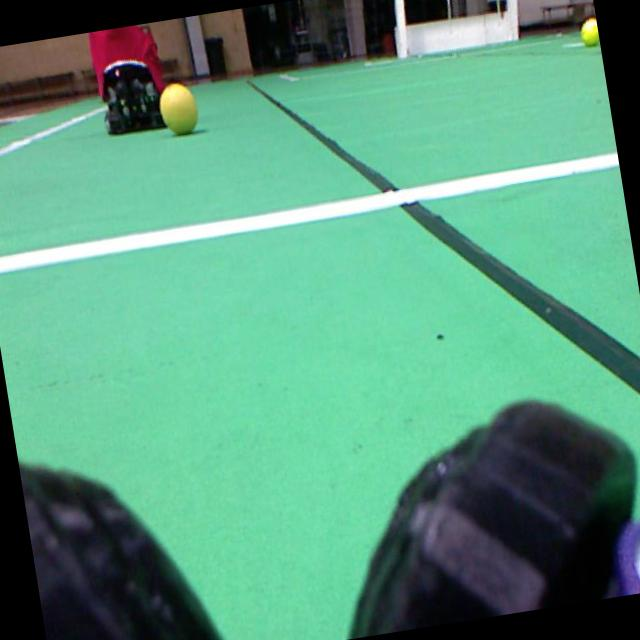ball: (160, 83, 197, 134), (581, 18, 599, 45)
goal: (394, 0, 408, 58), (506, 0, 518, 40)
